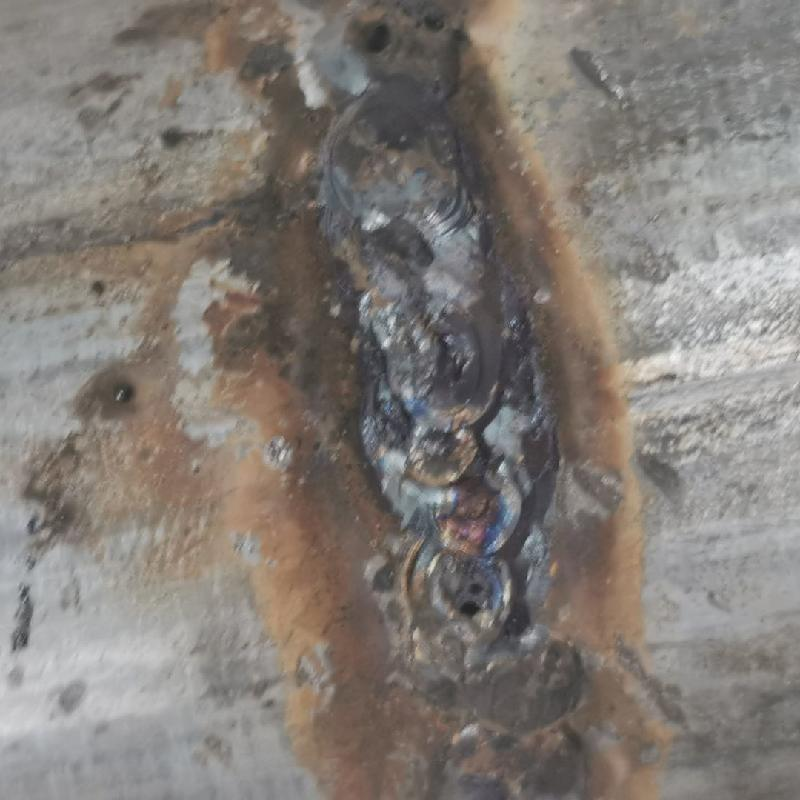Surface_pores: (342, 7, 428, 79), (445, 568, 505, 630)
crater: (346, 242, 583, 794)
wrong_size: (331, 90, 480, 230)
